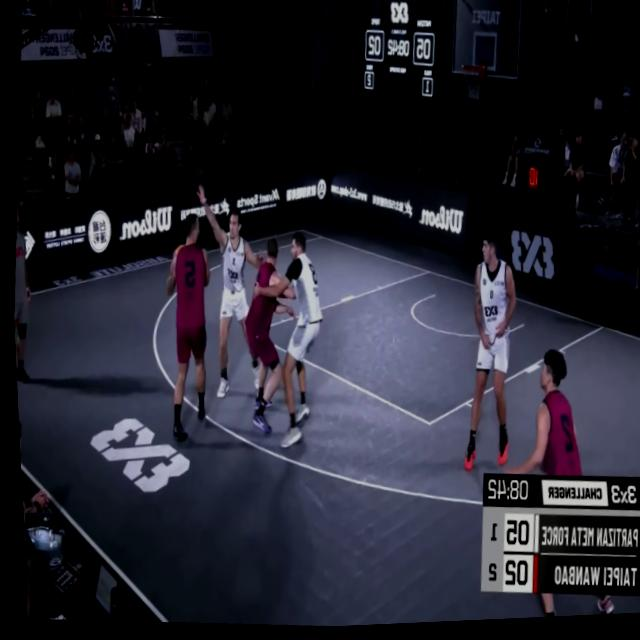ball: (169, 244, 183, 266)
hoop: (456, 61, 489, 110)
player: (483, 354, 607, 622), (187, 188, 276, 407), (251, 229, 331, 458), (452, 239, 524, 478), (149, 210, 218, 450), (228, 240, 295, 433)
